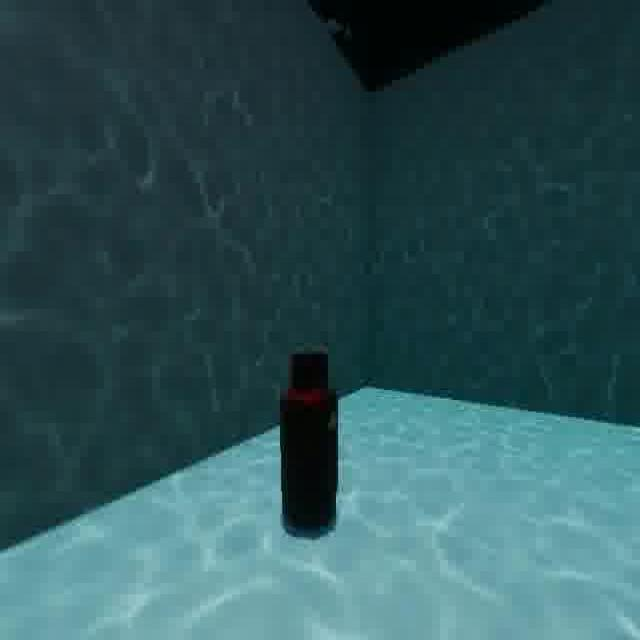Cylinder: (274, 342, 350, 546)
